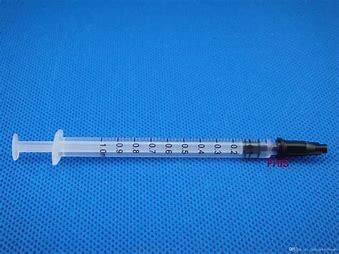Syringe: (7, 124, 332, 173)
